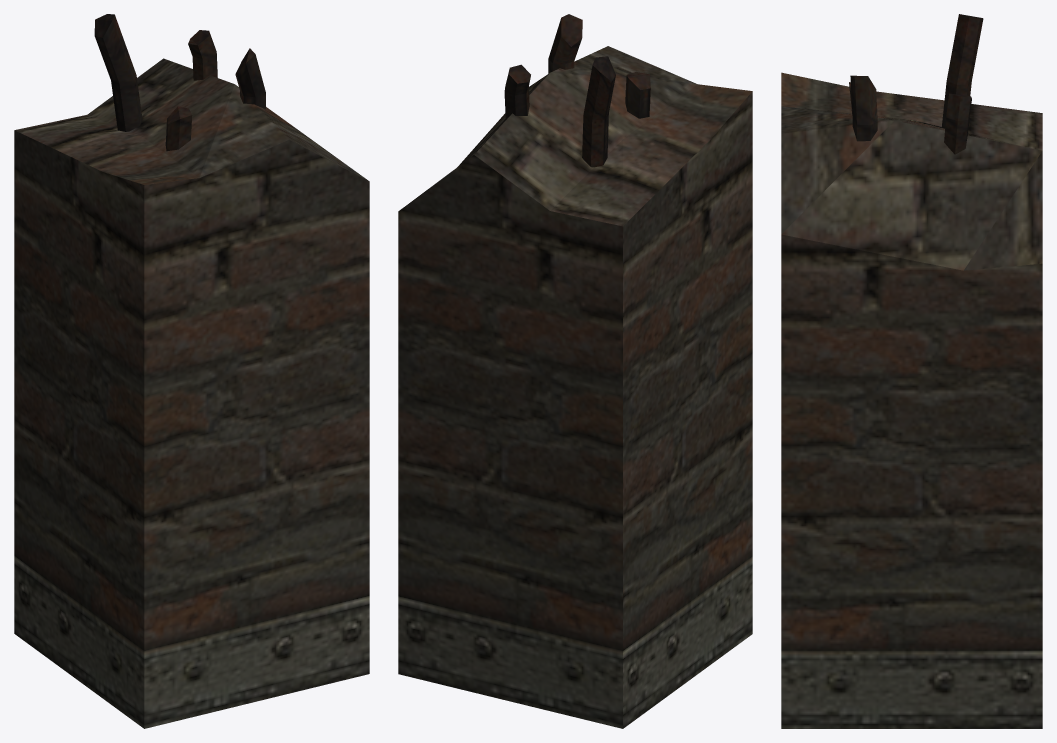
Rendered from pillar_hr_1_broken.dae.
The picture shows the model from 3 angles, left to right: view 1: azimuth 30°, elevation 25°; view 2: azimuth 150°, elevation 25°; view 3: azimuth 270°, elevation 25°; orthographic projection.
Visible parts, largest first — view 1: pillar_hr_1_broken; view 2: pillar_hr_1_broken; view 3: pillar_hr_1_broken.
Part boxes in pixels (box(x1,y1,x2,y2)): pillar_hr_1_broken: box(14, 14, 369, 728); pillar_hr_1_broken: box(398, 14, 752, 728); pillar_hr_1_broken: box(781, 14, 1042, 728).
Bounding box in the file's own units: 0.6 × 0.6 × 1.6.
Materials: 2 (2 with a texture image).
